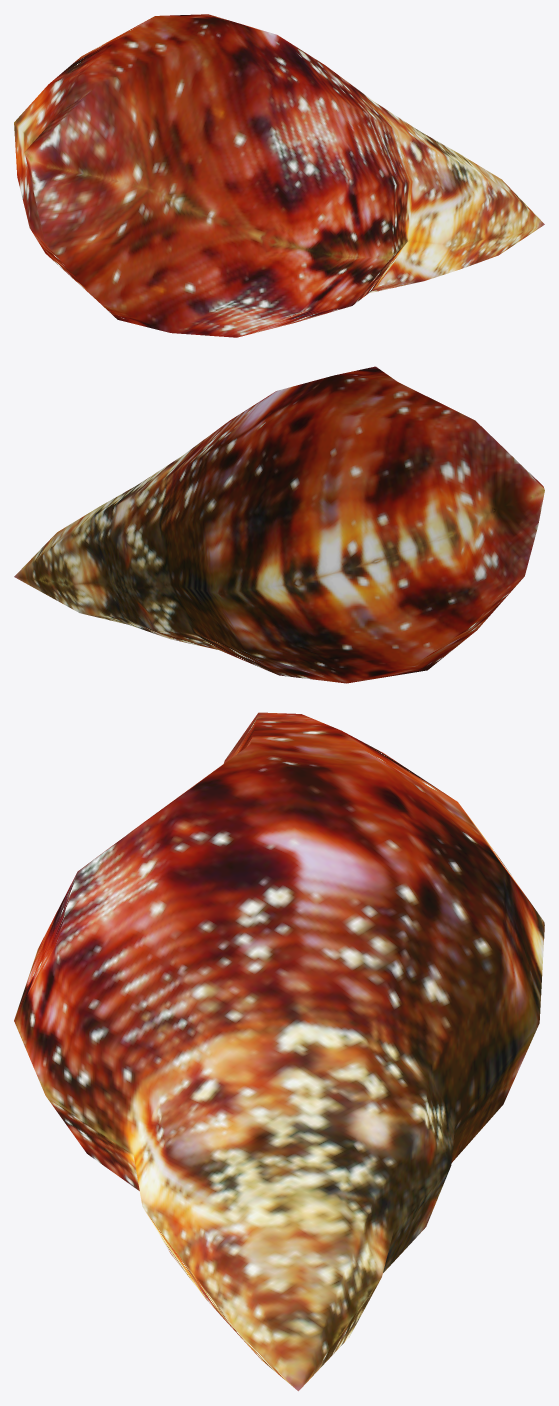
The model's file is SeaShell-03_LOD0_Small.glb.
The picture shows the model from 3 angles, top to bottom: view 1: azimuth 30°, elevation 25°; view 2: azimuth 150°, elevation 25°; view 3: azimuth 270°, elevation 25°; orthographic projection. The views are drawn at different scales.
Visible parts, largest first — view 1: SeaShell-03_high; view 2: SeaShell-03_high; view 3: SeaShell-03_high.
Part boxes in pixels (x1,y1,x2,y2): SeaShell-03_high: [14, 14, 544, 337]; SeaShell-03_high: [14, 366, 544, 683]; SeaShell-03_high: [14, 712, 544, 1391].
Bounding box in the file's own units: 0.0289 × 0.0155 × 0.018.
Materials: 1 (1 with a texture image).
